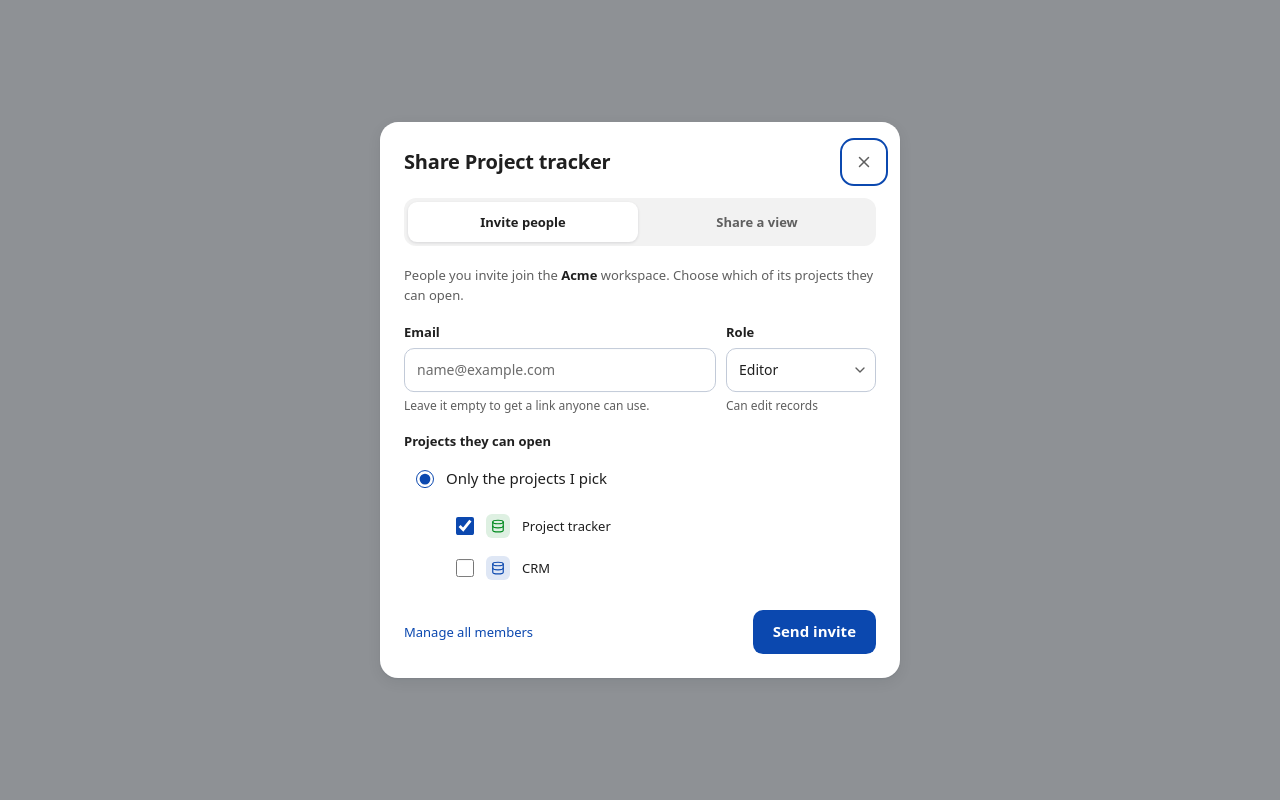
Test: Share dialog: invite people › from a base, picks that base and sends the invite to the base endpoint
Expected: the text "People you invite join the" shows "People you invite join the Acme workspace. Choose which of its projects they can open.", [404, 266, 876, 305]
Expected: the radio button labelled "Only the projects I pick" is checked, [416, 470, 434, 488]
Type "jordan@example.com" into the field labelled "Email" at point(560, 370), box [404, 348, 716, 392]
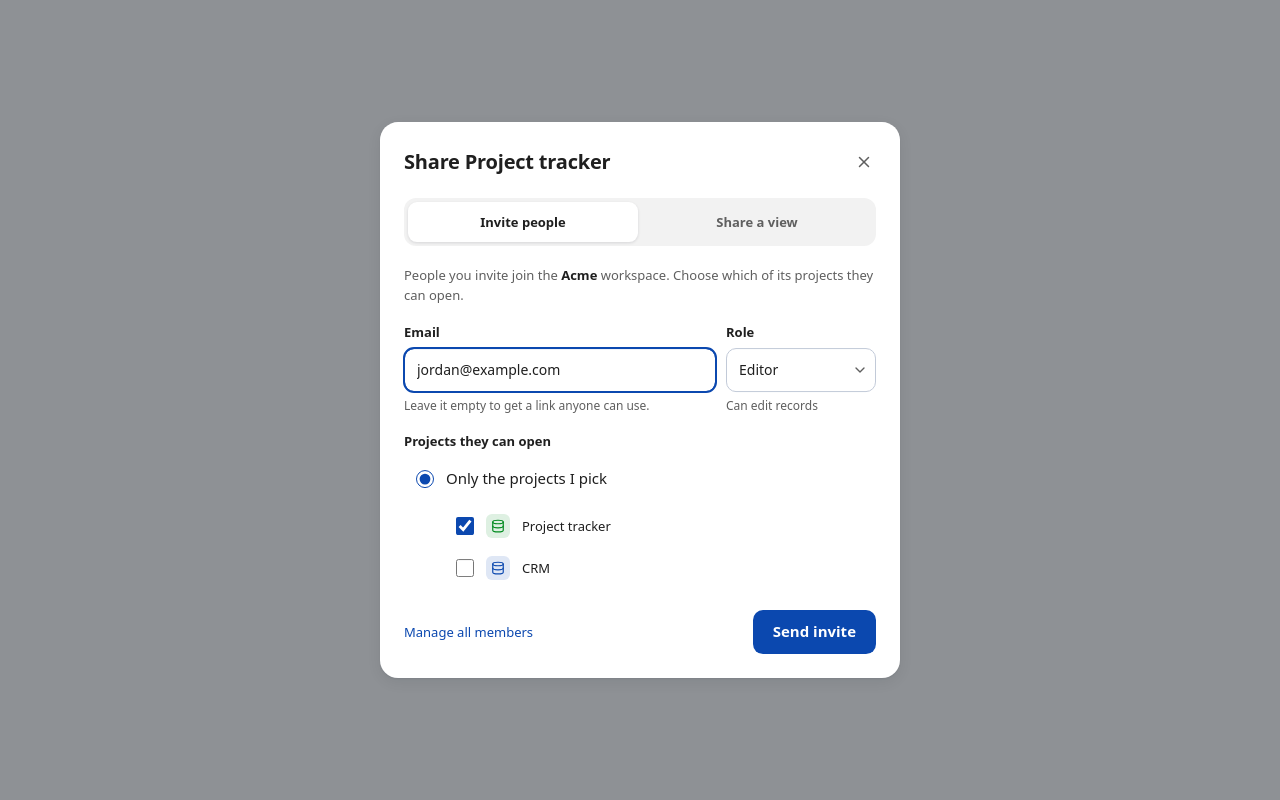
Select "Commenter" in the dropdown labelled "Role" at point(801, 370), box [726, 348, 876, 392]
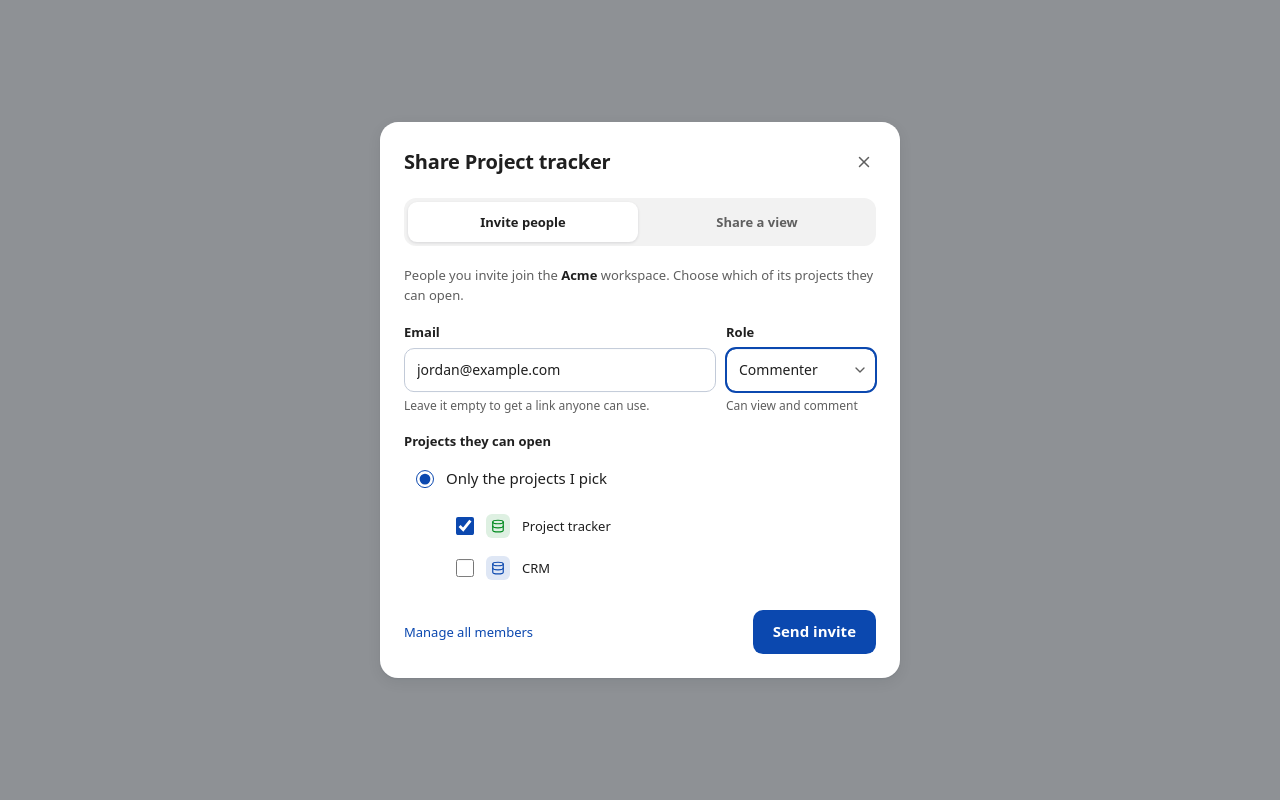
Click the checkbox labelled "CRM" at point(465, 568), box [456, 559, 474, 577]
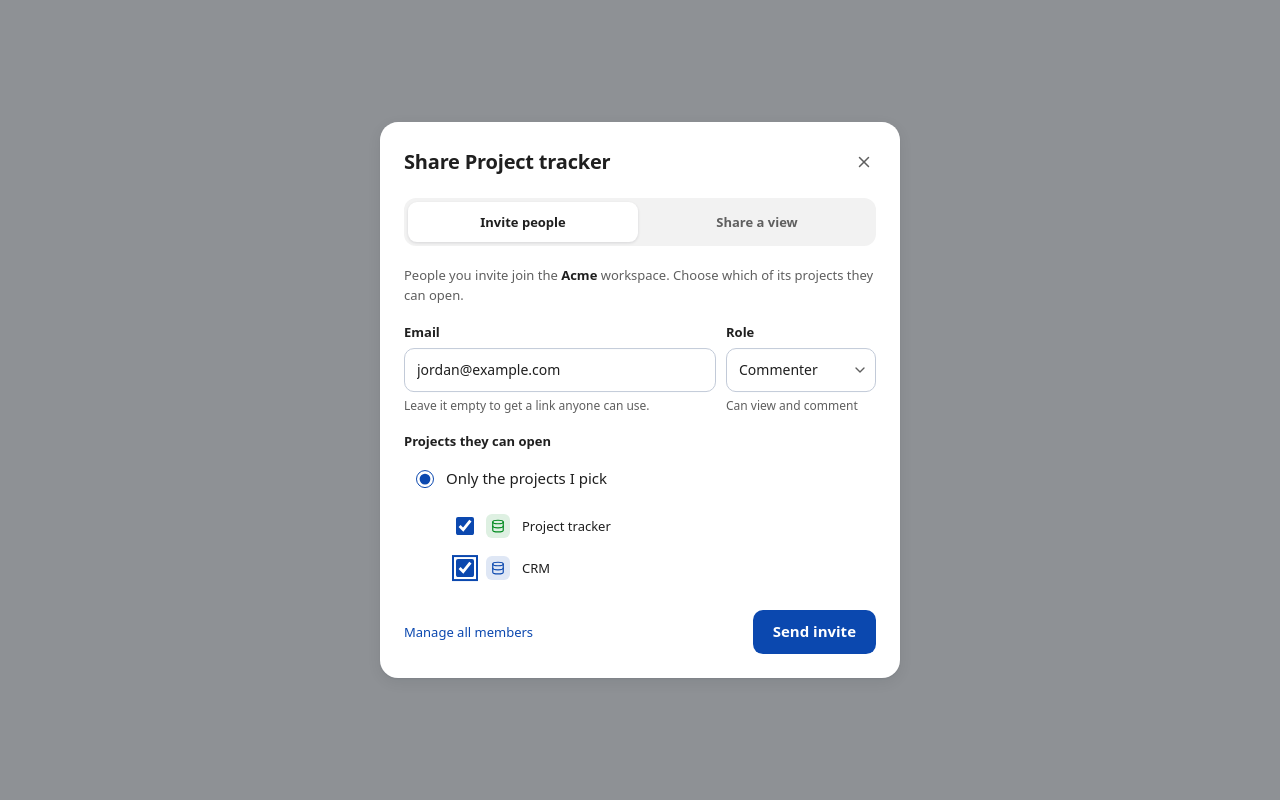
Click the button "Send invite" at point(814, 632), box [753, 610, 876, 654]
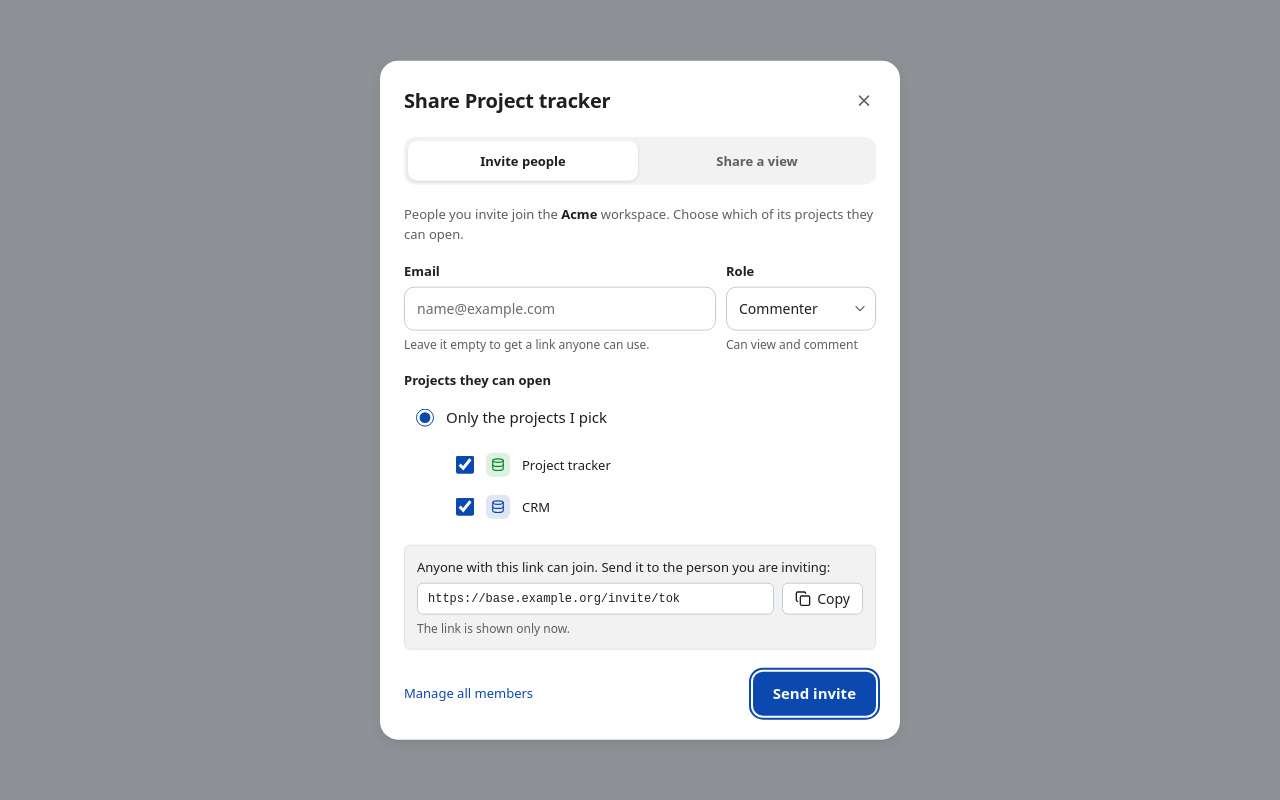
Now the field named "Invite link" holds "https://base.example.org/invite/tok", box [417, 582, 774, 614]
Now the field labelled "Email" is empty, box [404, 286, 716, 330]
